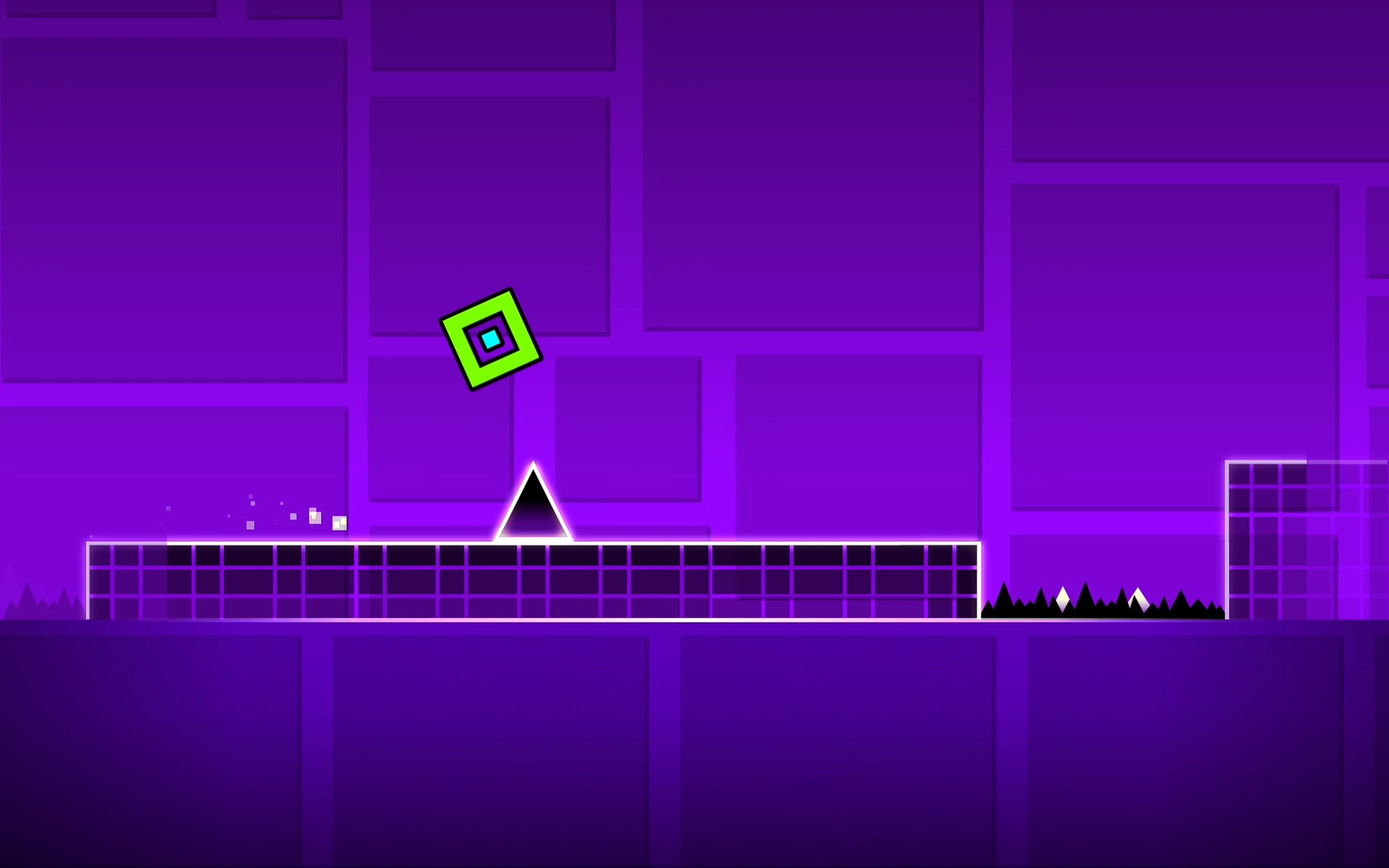Block2: (92, 540, 976, 616), (1226, 460, 1381, 618)
Player: (440, 287, 541, 389)
Spike: (494, 463, 571, 539)
Spike3: (980, 584, 1224, 622)
